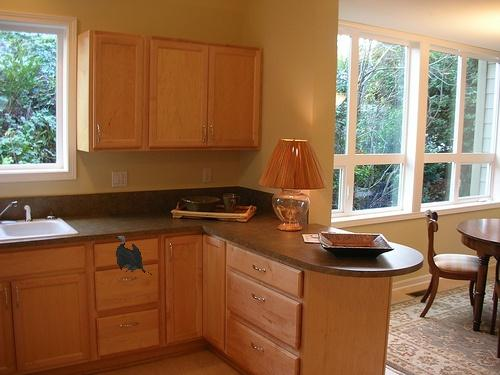tampered: (116, 237, 170, 275)
